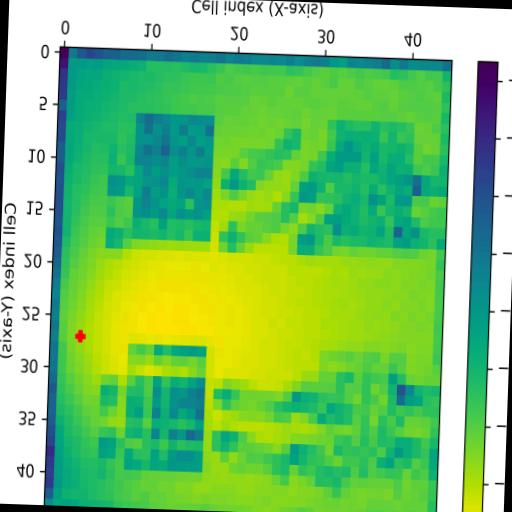Concrete: (316, 350, 406, 489)
Glass: (124, 342, 206, 474)
Metal: (314, 120, 416, 258)
Wood: (132, 114, 214, 241)
